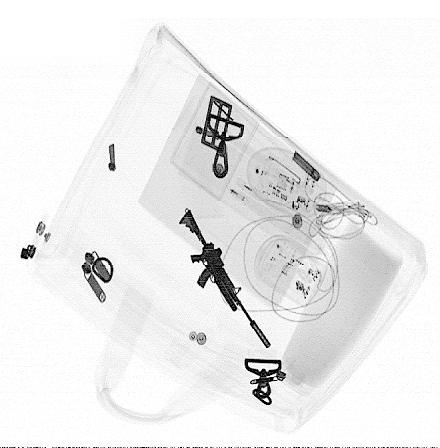Gun: (179, 209, 272, 350)
